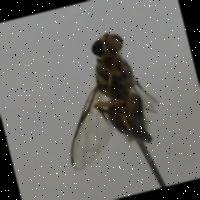Oriental-fruit-fly: (29, 5, 180, 188)
